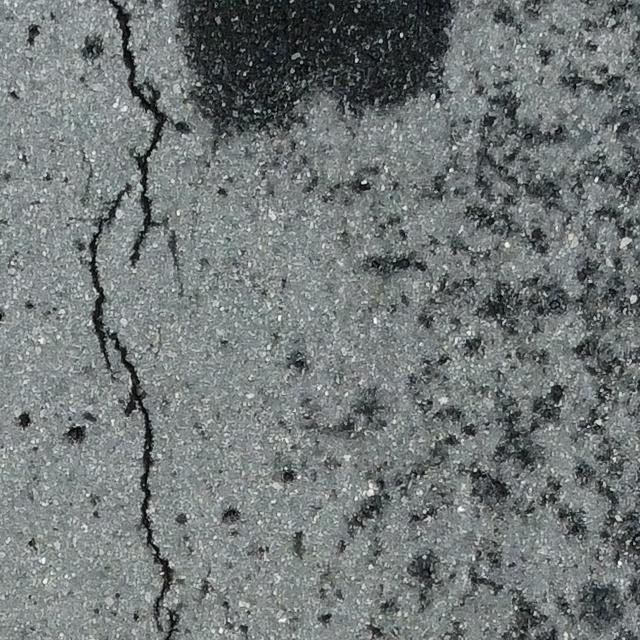LongitudinalCrack: (86, 183, 182, 640), (110, 1, 166, 268)
